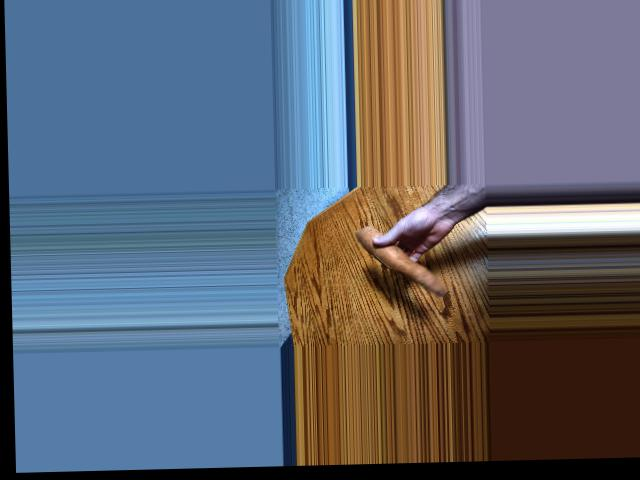sweet_potato: (363, 222, 446, 295)
